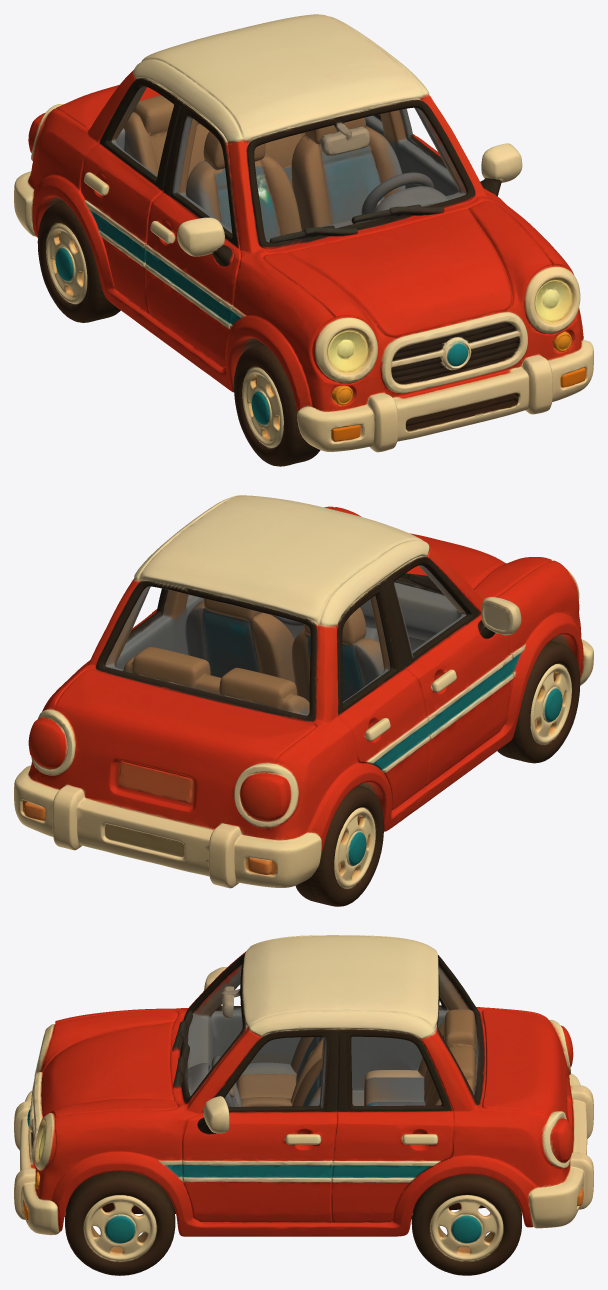
File: CartoonCar.fbx
3 renders of one model, top to bottom at view 1: azimuth 30°, elevation 25°; view 2: azimuth 150°, elevation 25°; view 3: azimuth 270°, elevation 25°, orthographic. The views are drawn at different scales.
Visible parts, largest first — view 1: tripo_node_27c90b1a-1710-48de-94a1-edef19aa7568; view 2: tripo_node_27c90b1a-1710-48de-94a1-edef19aa7568; view 3: tripo_node_27c90b1a-1710-48de-94a1-edef19aa7568.
Part boxes in pixels (box(x1,y1,x2,y2)): tripo_node_27c90b1a-1710-48de-94a1-edef19aa7568: box(14, 14, 593, 466); tripo_node_27c90b1a-1710-48de-94a1-edef19aa7568: box(14, 495, 593, 906); tripo_node_27c90b1a-1710-48de-94a1-edef19aa7568: box(14, 935, 593, 1275).
Bounding box in the file's own units: 58.22 × 46.38 × 97.95.
1 material, 1 textured.
